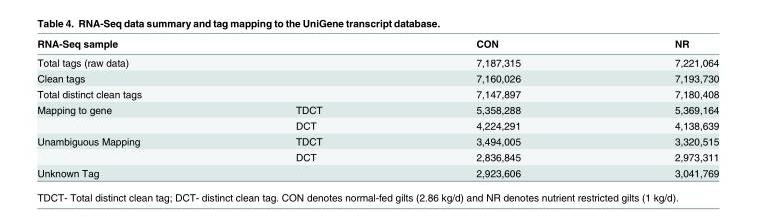table: (36, 37, 718, 178)
table column: (398, 37, 596, 178), (36, 37, 217, 178), (217, 37, 398, 178), (596, 37, 718, 178)
table column header: (36, 37, 718, 52)
table row: (36, 52, 718, 69), (36, 69, 718, 85), (36, 85, 718, 101), (36, 101, 718, 117), (36, 117, 718, 133), (36, 148, 718, 164), (36, 37, 718, 52), (36, 133, 718, 148), (36, 164, 718, 178)
table spanning cell: (36, 101, 217, 133), (36, 133, 217, 164)
